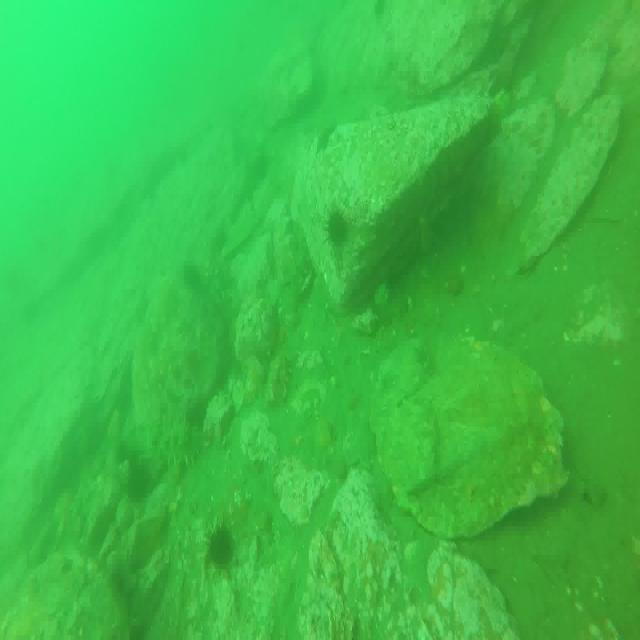echinus: (322, 208, 353, 252), (207, 530, 238, 574), (372, 0, 391, 23)
holothurian: (155, 426, 211, 468)
